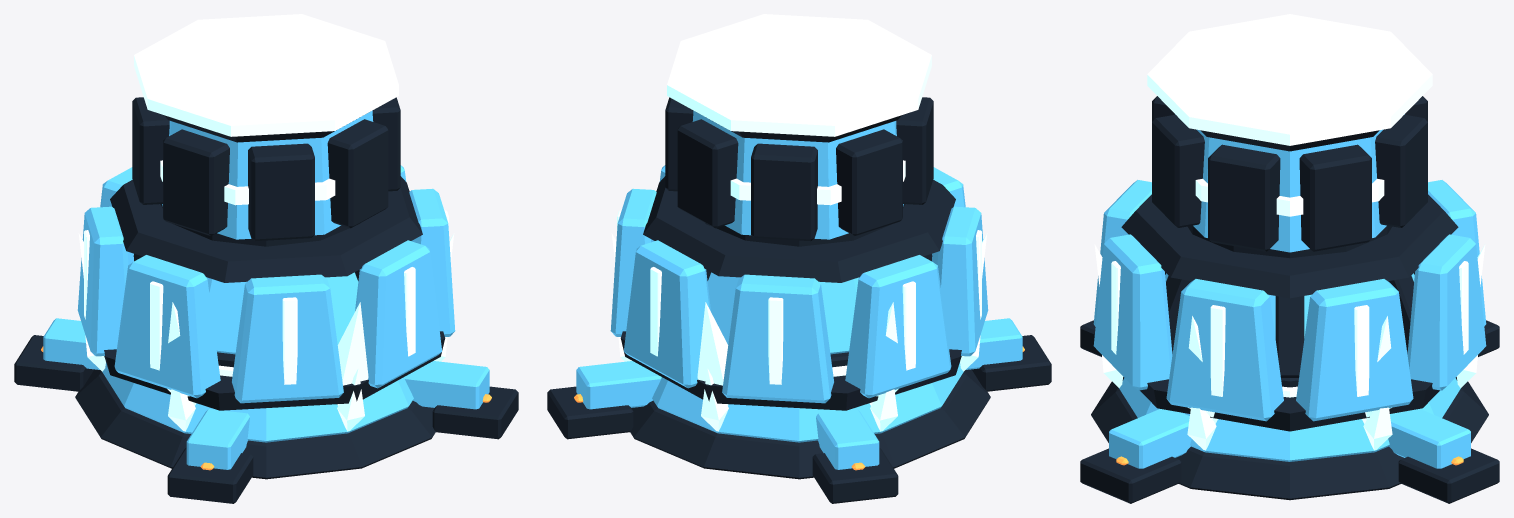
Rendered from tower_frost3_base.glb.
3 renders of one model, left to right at view 1: azimuth 30°, elevation 25°; view 2: azimuth 150°, elevation 25°; view 3: azimuth 270°, elevation 25°, orthographic. The views are drawn at different scales.
Parts seen in each view (by area): view 1: TowerFrost3_Base; view 2: TowerFrost3_Base; view 3: TowerFrost3_Base.
Boxes of the visible parts, x1,y1,x2,y2 form: TowerFrost3_Base: [14, 14, 518, 503]; TowerFrost3_Base: [547, 14, 1051, 503]; TowerFrost3_Base: [1080, 14, 1499, 503].
Bounding box in the file's own units: 0.8754 × 0.788 × 0.8754.
